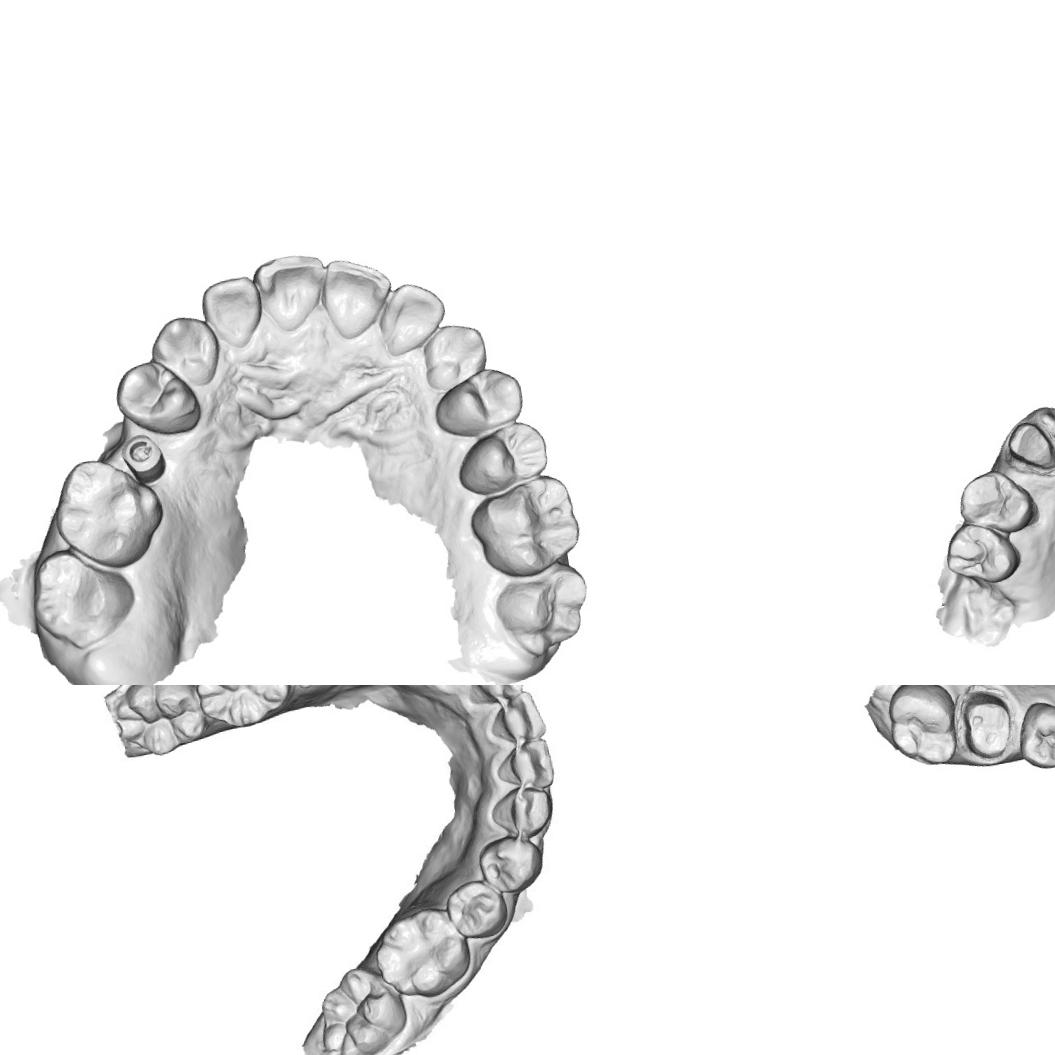canine: (144, 310, 220, 390), (414, 318, 493, 394), (486, 782, 556, 843)
crown: (957, 685, 1020, 766), (1004, 416, 1055, 479)
implant: (115, 426, 171, 487)
incisor: (315, 248, 401, 344), (252, 248, 334, 336), (371, 274, 454, 360), (196, 272, 266, 354), (490, 732, 558, 796), (484, 687, 548, 745), (461, 685, 527, 707)
molar: (42, 448, 170, 580), (22, 540, 144, 658), (463, 470, 586, 586), (368, 902, 477, 1006), (308, 959, 414, 1055), (489, 564, 594, 660), (108, 685, 209, 763), (881, 685, 960, 772), (187, 685, 296, 735)
premolar: (108, 352, 204, 444), (426, 366, 528, 444), (450, 423, 548, 504), (954, 464, 1040, 540), (940, 516, 1026, 590), (472, 831, 548, 899), (442, 874, 512, 944), (1014, 697, 1055, 774)
